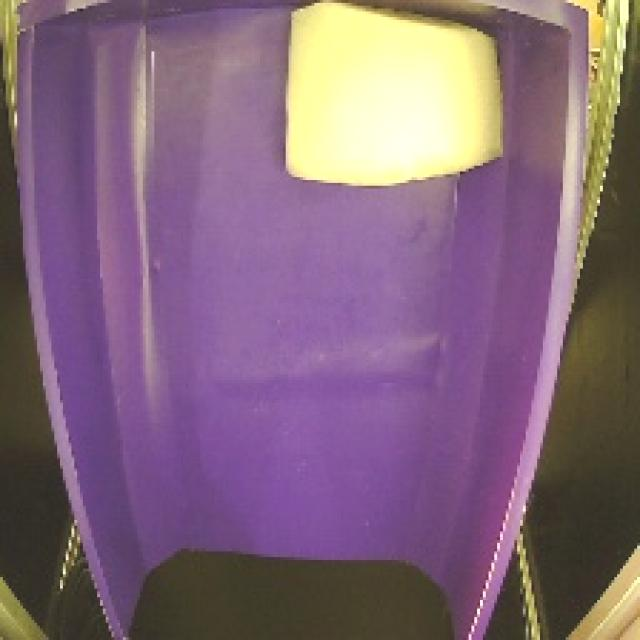white_radish: (270, 0, 508, 202)
